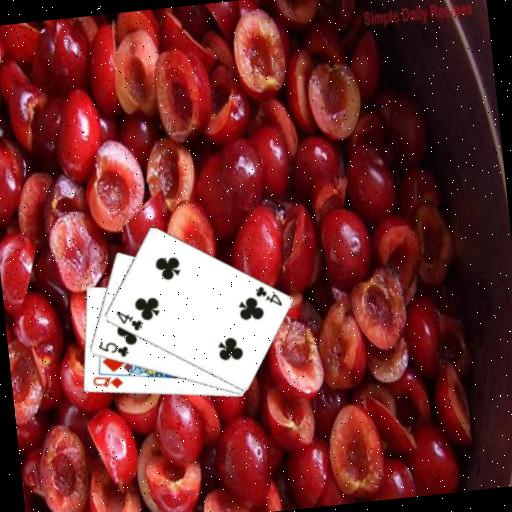4C: (112, 305, 145, 334), (251, 282, 284, 311)
5C: (95, 336, 131, 362)
QD: (89, 371, 125, 392)
